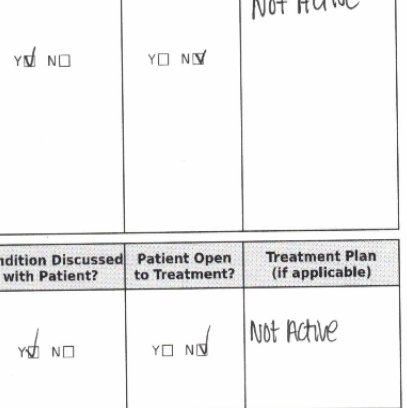checked: (195, 328, 216, 364), (26, 326, 43, 368), (191, 46, 214, 71), (23, 45, 40, 73)
